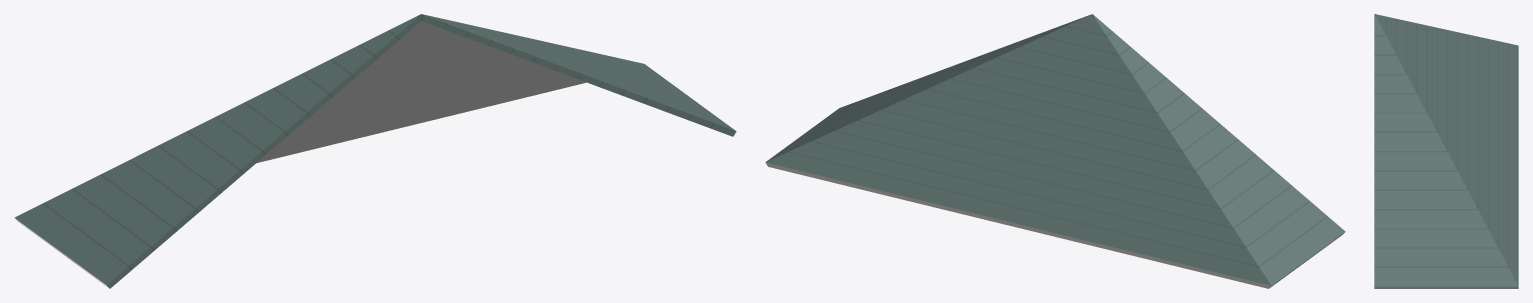
Rendered from Roof4_C6_02.fbx.
The picture shows the model from 3 angles, left to right: view 1: azimuth 30°, elevation 25°; view 2: azimuth 150°, elevation 25°; view 3: azimuth 270°, elevation 25°; orthographic projection. The views are drawn at different scales.
Visible parts, largest first — view 1: Roof4_C6_02; view 2: Roof4_C6_02; view 3: Roof4_C6_02.
Part boxes in pixels (bbox=[...]): Roof4_C6_02: bbox=[14, 14, 736, 288]; Roof4_C6_02: bbox=[765, 14, 1345, 288]; Roof4_C6_02: bbox=[1374, 14, 1518, 288].
Size of the model in its own units: 1105 by 333 by 280.
